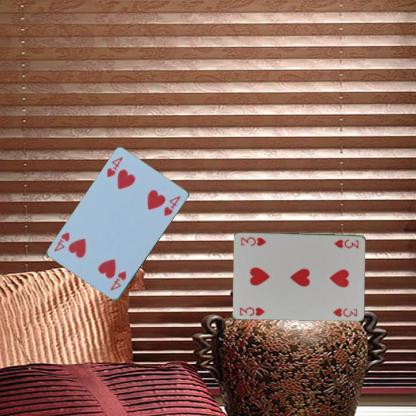3h: (332, 236, 360, 250), (237, 305, 266, 317)
4h: (104, 154, 124, 179), (107, 269, 128, 292)
